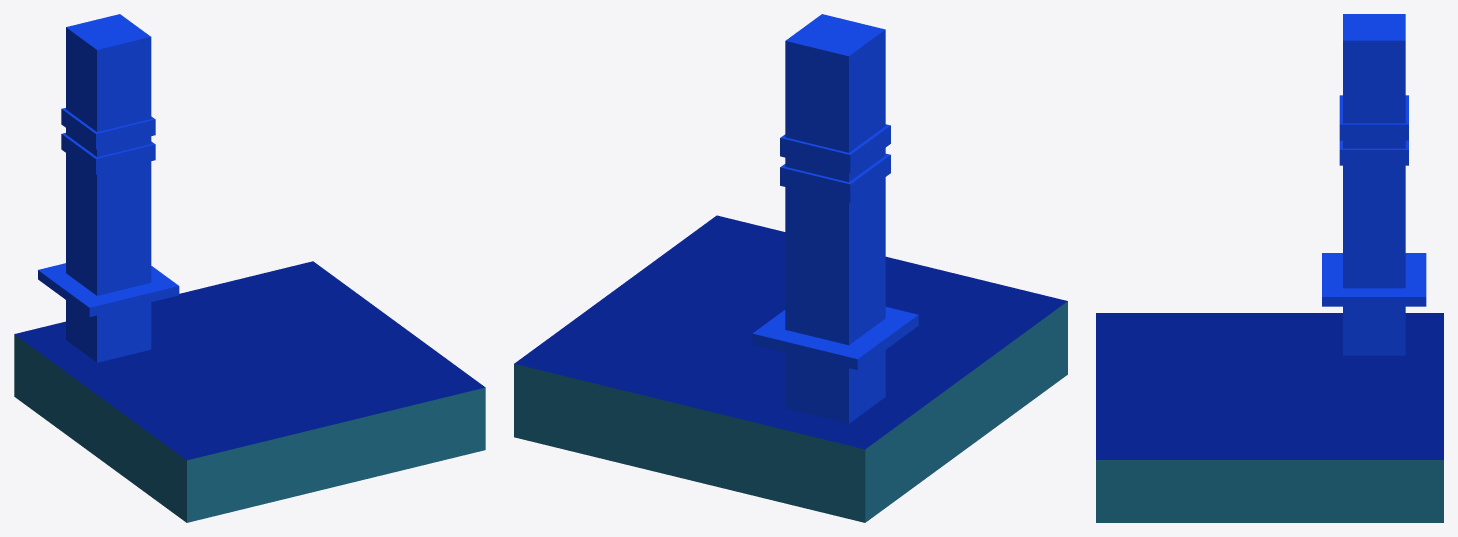
File: arcade_tile_pillar.fbx
3 views of the same model, side by side, from view 1: azimuth 30°, elevation 25°; view 2: azimuth 150°, elevation 25°; view 3: azimuth 270°, elevation 25° (orthographic). The views are drawn at different scales.
Visible parts, largest first — view 1: tile_floor, pillar; view 2: tile_floor, pillar; view 3: tile_floor, pillar.
Boxes of the visible parts, <box> form: tile_floor: <box>14,261,485,522</box>; pillar: <box>38,14,179,362</box>; tile_floor: <box>514,215,1067,522</box>; pillar: <box>752,14,918,423</box>; tile_floor: <box>1096,313,1443,522</box>; pillar: <box>1322,14,1426,355</box>.
Bounding box in the file's own units: 5 × 6 × 5.
